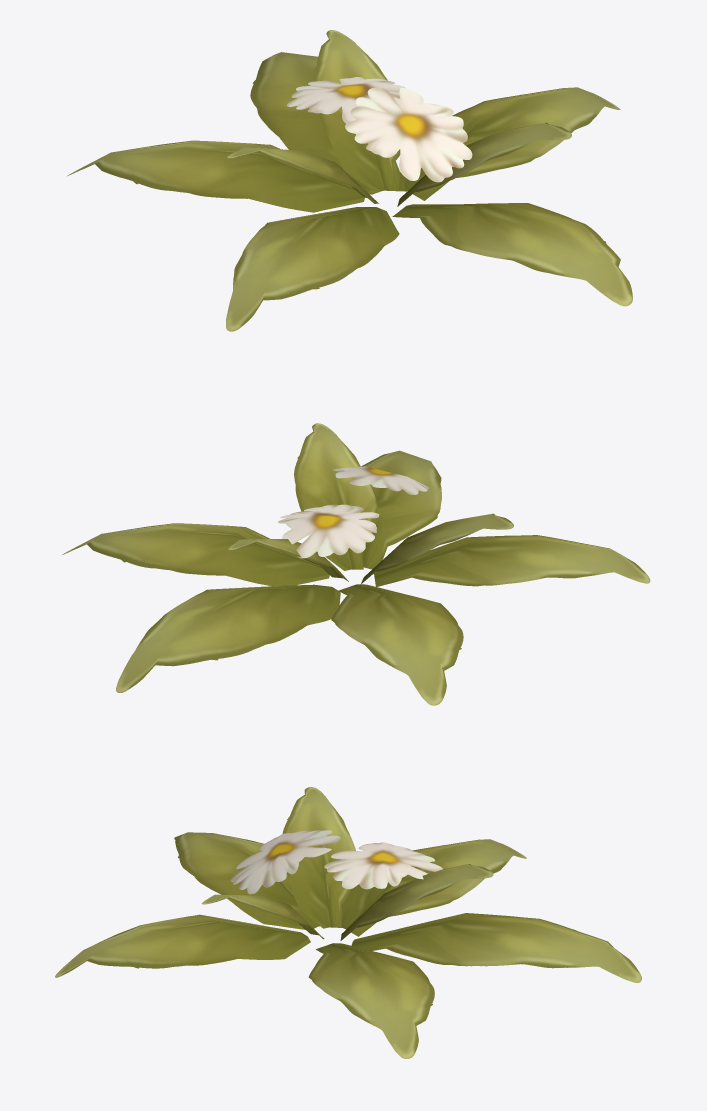
File: Bush.FBX
The picture shows the model from 3 angles, top to bottom: view 1: azimuth 30°, elevation 25°; view 2: azimuth 150°, elevation 25°; view 3: azimuth 270°, elevation 25°; orthographic projection. The views are drawn at different scales.
Parts seen in each view (by area): view 1: Box097; view 2: Box097; view 3: Box097.
Part boxes in pixels (<box>): Box097: <box>67,30,632,331</box>; Box097: <box>62,423,650,705</box>; Box097: <box>55,787,641,1058</box>.
Bounding box in the file's own units: 21.49 × 5.24 × 24.47.
